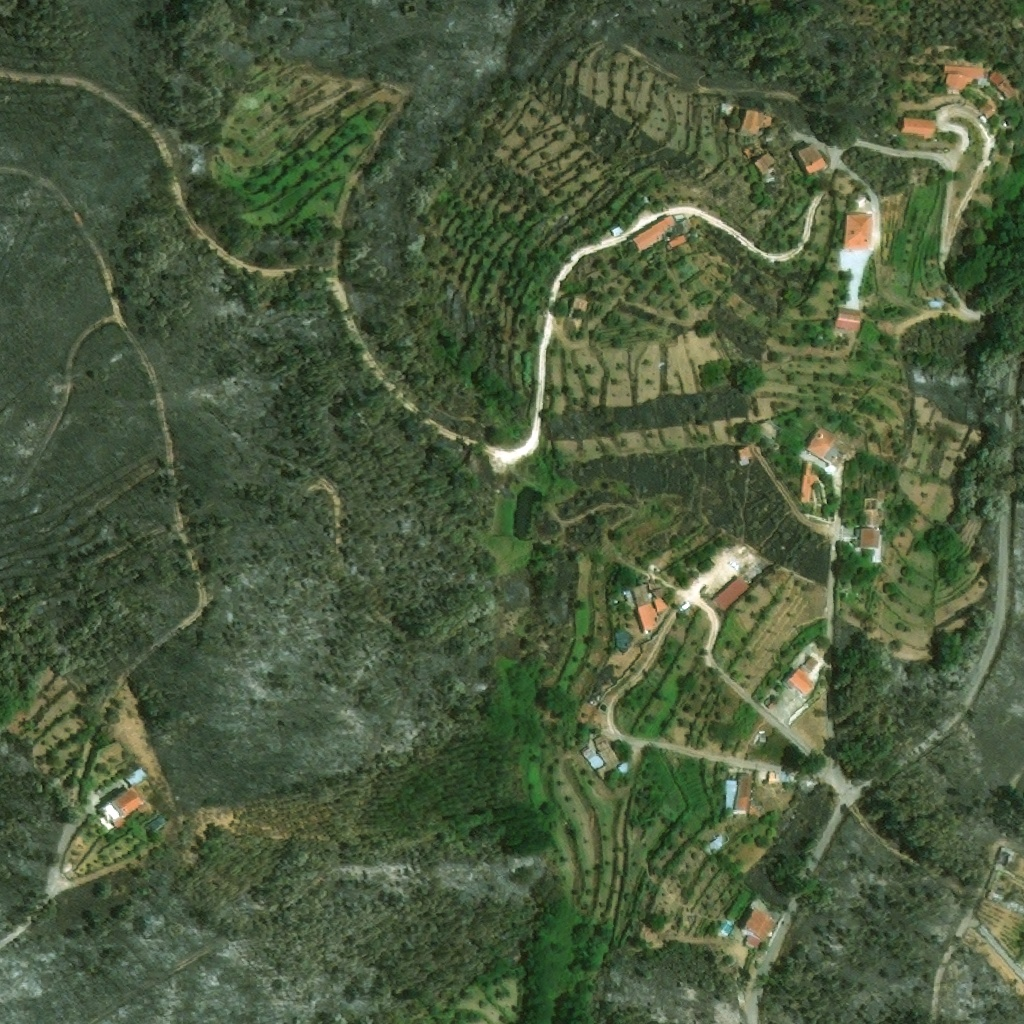0 no-damage: (90, 783, 149, 834), (618, 213, 676, 254), (704, 572, 750, 616), (738, 904, 779, 950), (931, 59, 987, 90), (788, 140, 827, 178), (803, 428, 842, 464), (591, 733, 619, 782), (736, 107, 776, 138), (723, 773, 751, 816), (783, 666, 816, 697), (798, 460, 821, 504), (841, 212, 870, 245), (894, 117, 935, 139), (829, 304, 860, 333), (635, 602, 661, 634), (748, 151, 776, 180), (574, 743, 604, 770), (738, 139, 766, 162), (630, 582, 653, 607), (859, 527, 882, 549), (123, 767, 147, 786), (732, 443, 750, 466), (644, 580, 664, 598), (798, 654, 817, 672), (996, 81, 1013, 99), (621, 587, 635, 608), (652, 597, 668, 614), (976, 103, 994, 118), (667, 235, 685, 249), (766, 772, 777, 785)
